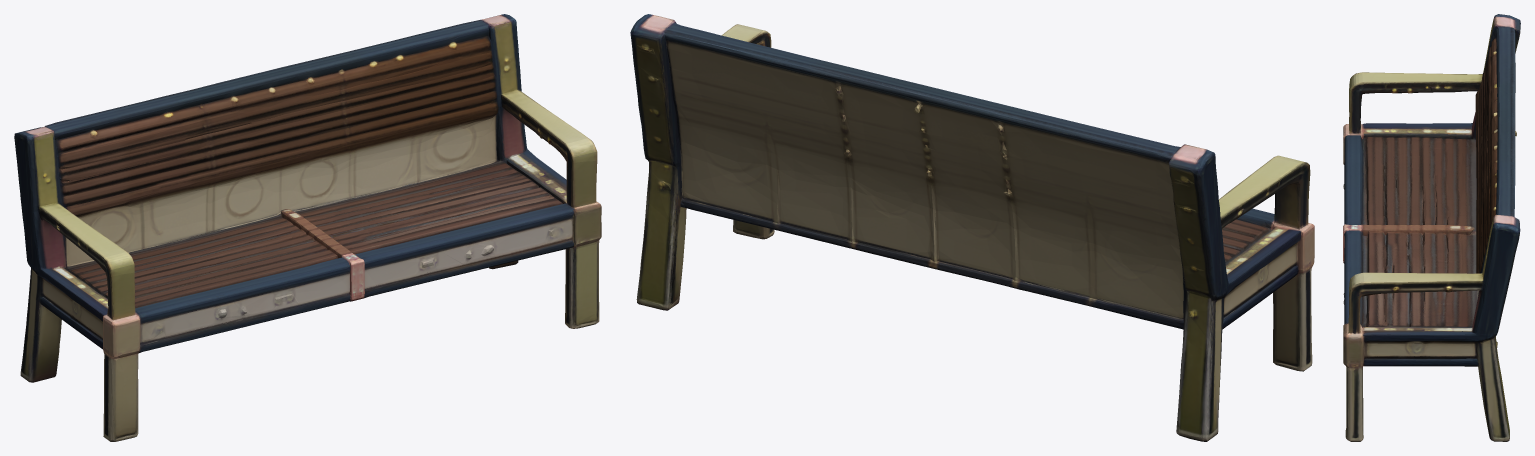
File: garden_bench.glb
The picture shows the model from 3 angles, left to right: view 1: azimuth 30°, elevation 25°; view 2: azimuth 150°, elevation 25°; view 3: azimuth 270°, elevation 25°; orthographic projection. The views are drawn at different scales.
Parts seen in each view (by area): view 1: world; view 2: world; view 3: world.
Part boxes in pixels (left/top/right/bottom): world: left=14, top=14, right=601, bottom=441; world: left=630, top=14, right=1314, bottom=441; world: left=1343, top=14, right=1520, bottom=441.
Bounding box in the file's own units: 1 × 0.4781 × 0.3548.
Materials: 1 (1 with a texture image).
